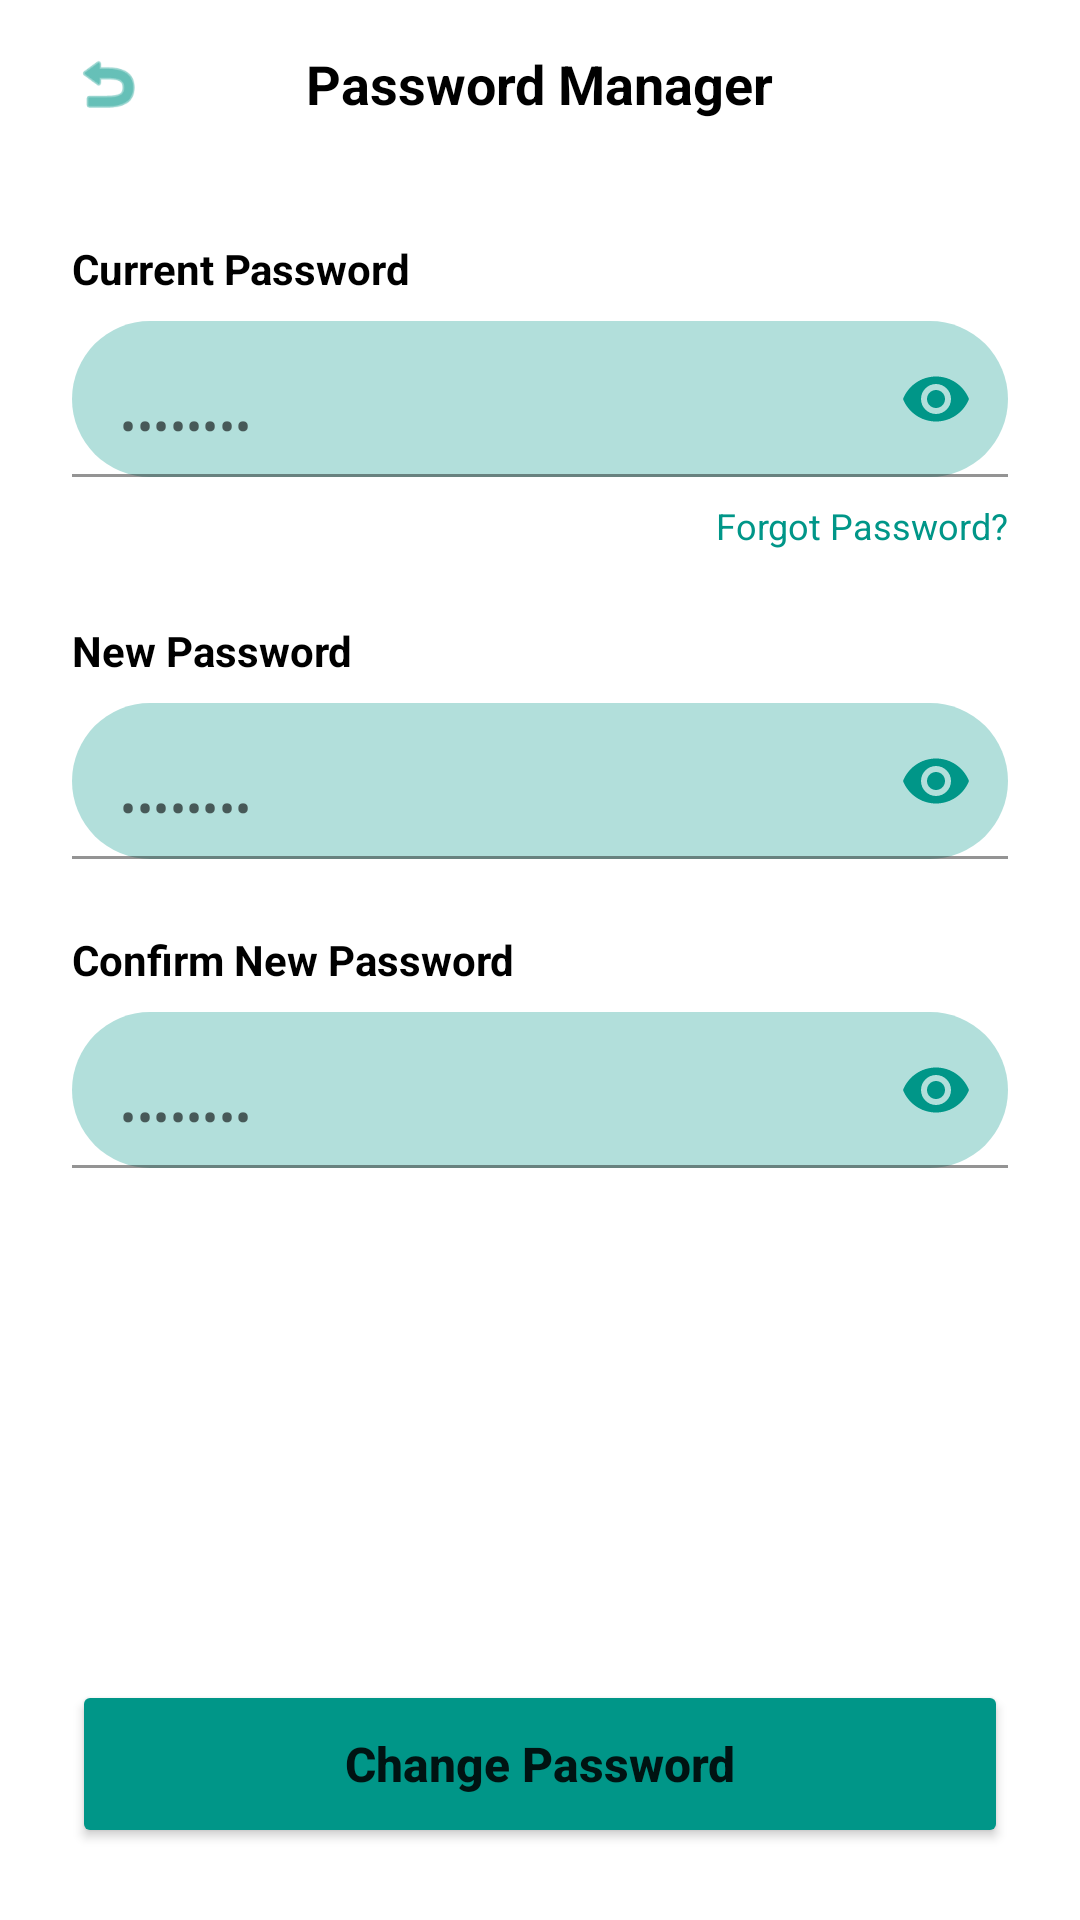

Where to tap for icons on this 1080px x 1920px app screen, as (x,y):
revert: (109,84)
